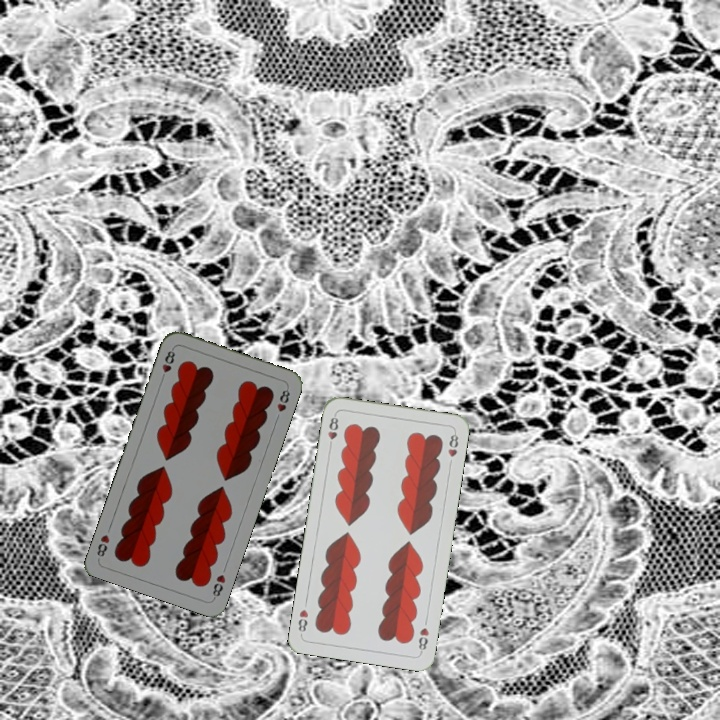H8: (157, 344, 178, 384), (324, 410, 341, 451), (208, 570, 228, 602), (414, 623, 431, 655)
